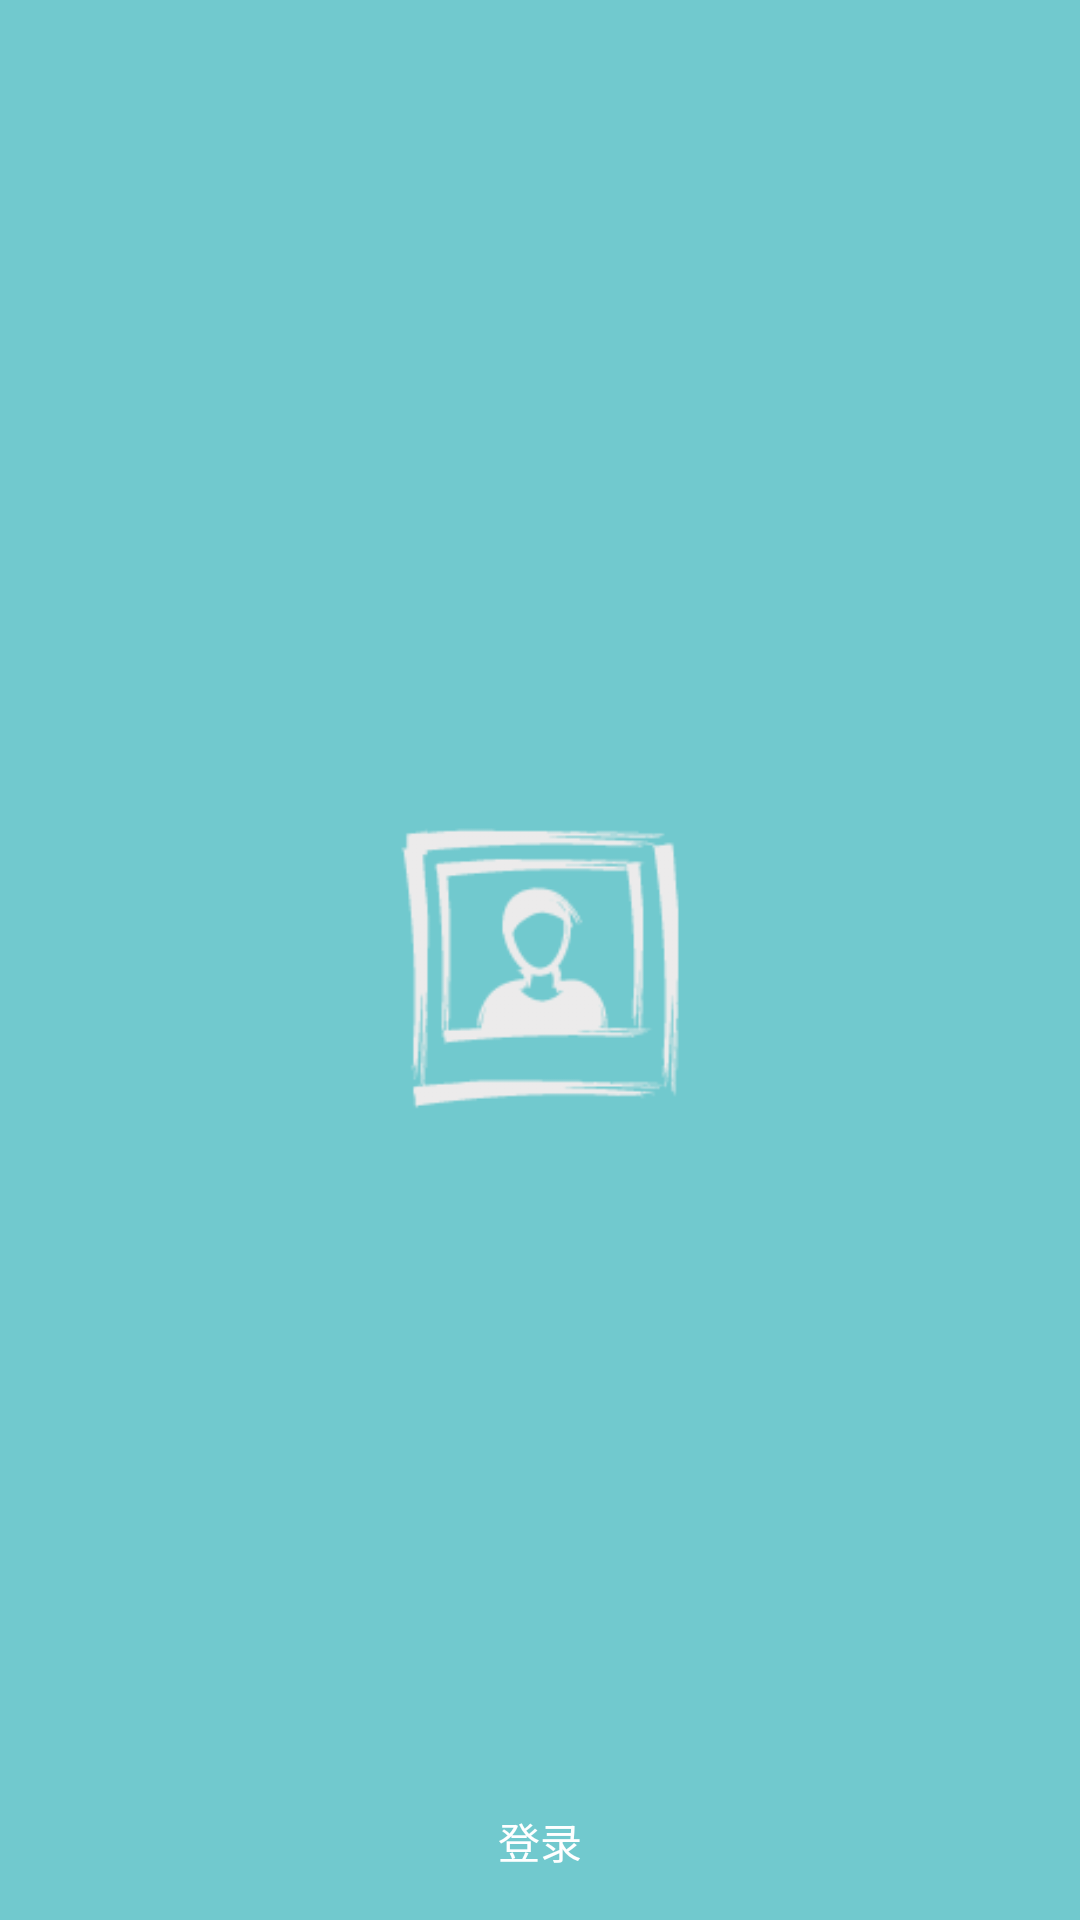

Point at icon controls on the screen. Image size 1080×1920, points as point (x, y).
photo: point (540, 968)
